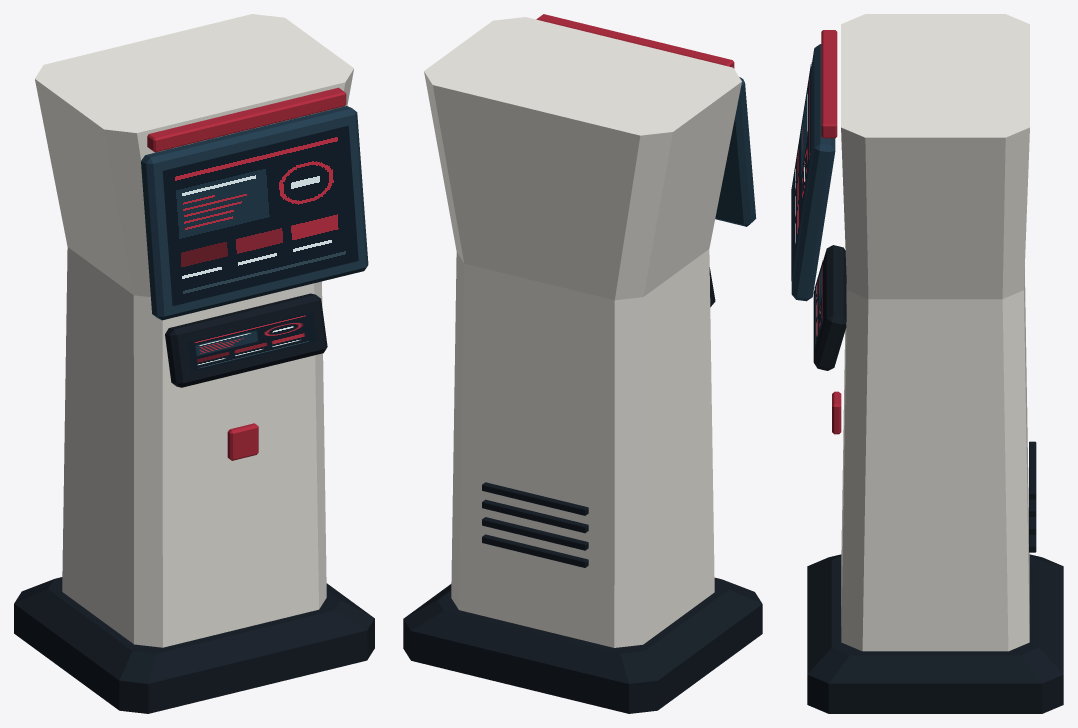
File: terminal-pedestal-standard-nakamura-lindahl.glb
3 renders of one model, left to right at view 1: azimuth 30°, elevation 25°; view 2: azimuth 150°, elevation 25°; view 3: azimuth 270°, elevation 25°, orthographic.
Visible parts, largest first — view 1: Housing, Rubber, Display, Trim, Identity; view 2: Housing, Rubber, Trim, Identity; view 3: Housing, Rubber, Trim, Display, Identity.
Boxes of the visible parts, left/top/right/bottom form: Housing: left=35, top=14, right=353, bottom=647; Rubber: left=14, top=293, right=374, bottom=713; Display: left=162, top=125, right=358, bottom=372; Trim: left=141, top=106, right=368, bottom=320; Identity: left=147, top=87, right=346, bottom=460; Housing: left=424, top=17, right=741, bottom=647; Rubber: left=403, top=267, right=762, bottom=713; Trim: left=715, top=77, right=756, bottom=226; Identity: left=536, top=14, right=734, bottom=68; Housing: left=841, top=14, right=1029, bottom=651; Rubber: left=807, top=245, right=1063, bottom=713; Trim: left=791, top=44, right=835, bottom=301; Display: left=791, top=62, right=822, bottom=349; Identity: left=821, top=30, right=841, bottom=434.
Bounding box in the file's own units: 0.49 × 1.04 × 0.4463.
5 materials, 1 textured.
